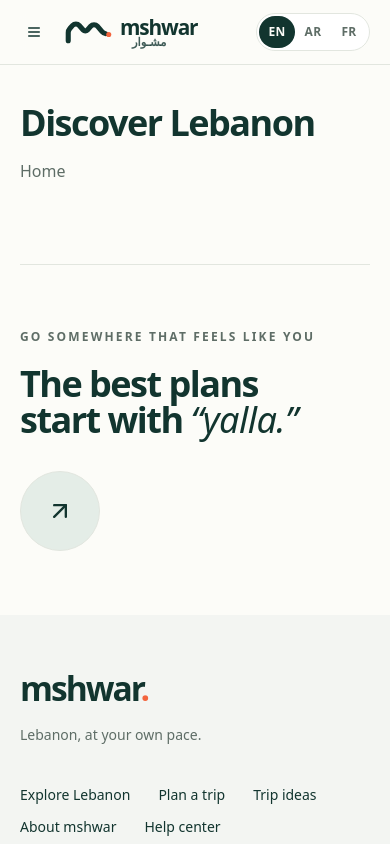
Test: responsive app shells › collapses navigation behind a menu control on the mobile pattern
Click the button named "Open menu". click: (34, 32)
box: [12, 10, 56, 54]
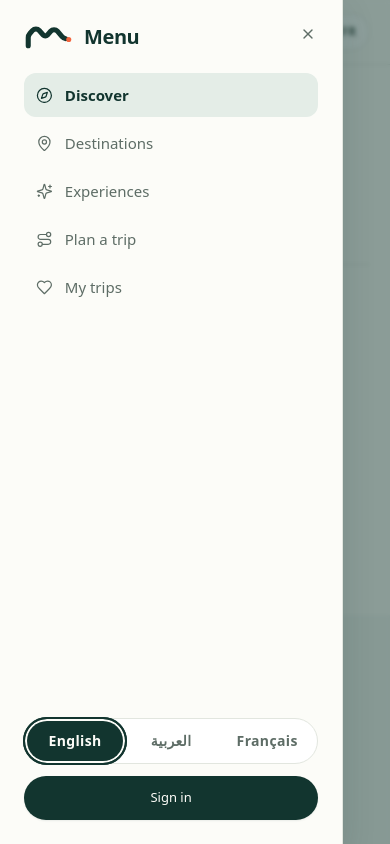
Expected: the link "Plan a trip" is shown, [36, 229, 136, 249]
